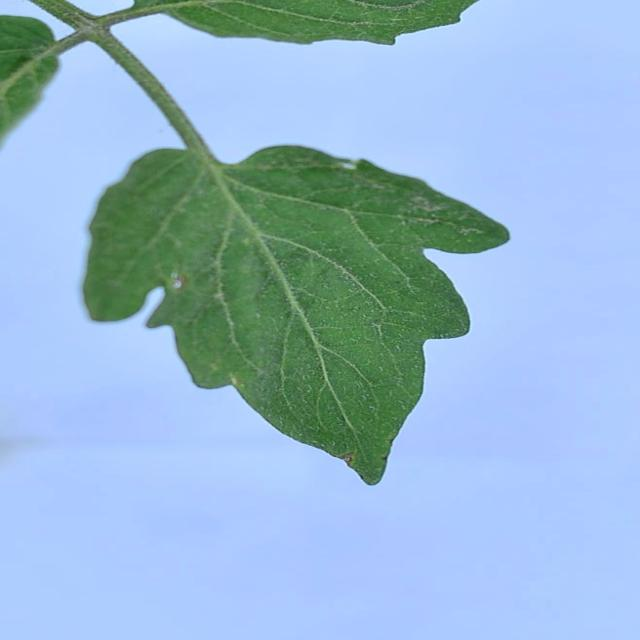healthy: (80, 143, 517, 487)
